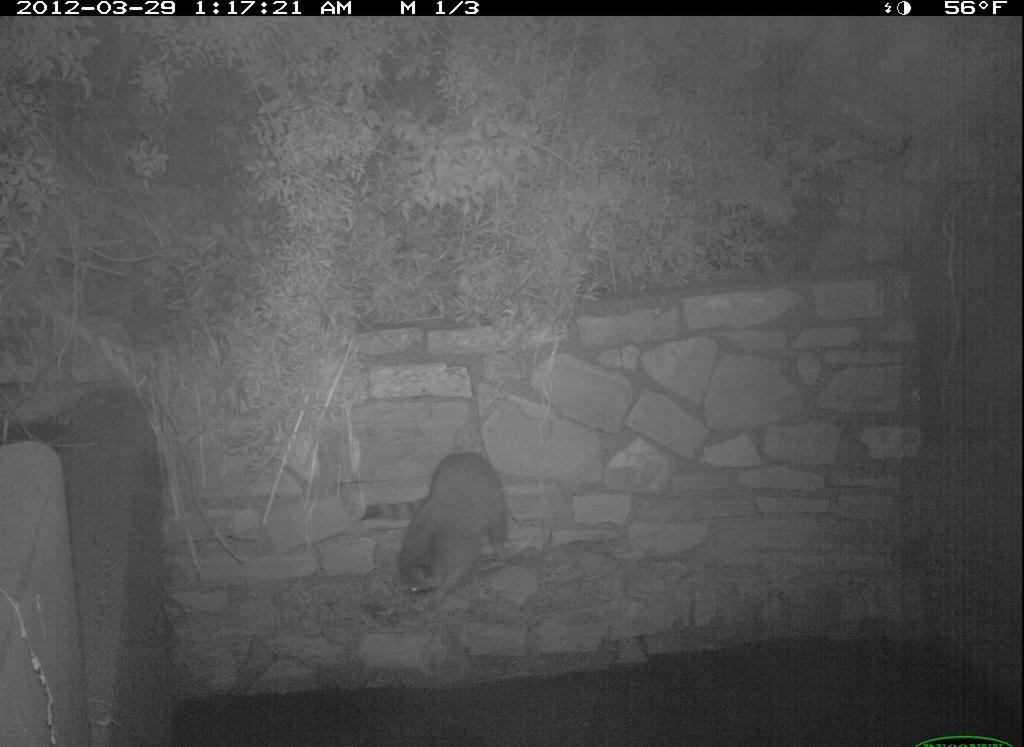raccoon: (391, 445, 516, 603)
